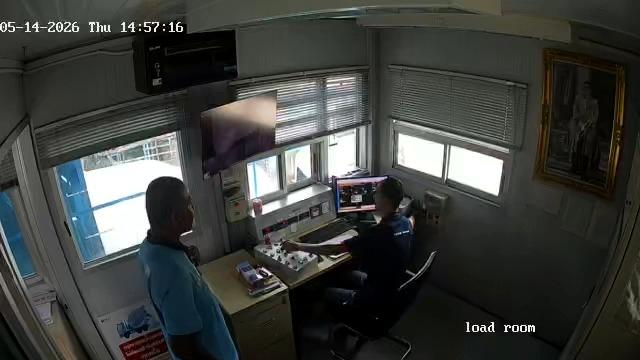Head: (144, 176, 195, 235), (372, 179, 404, 214)
People: (141, 175, 240, 360), (281, 178, 413, 290)
